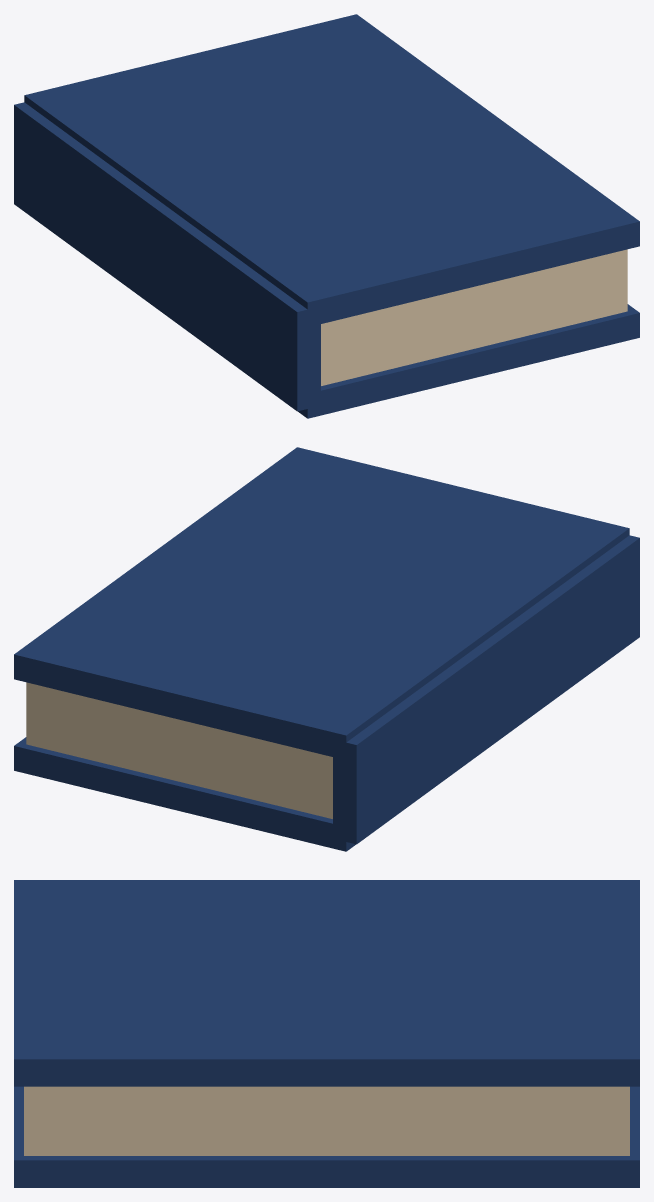
File: spellbook.gltf
3 renders of one model, top to bottom at view 1: azimuth 30°, elevation 25°; view 2: azimuth 150°, elevation 25°; view 3: azimuth 270°, elevation 25°, orthographic. The views are drawn at different scales.
Parts seen in each view (by area): view 1: CSGBox3D2; view 2: CSGBox3D2; view 3: CSGBox3D2.
Part boxes in pixels (x1,y1,x2,y2): CSGBox3D2: (14, 14, 639, 418); CSGBox3D2: (14, 447, 639, 851); CSGBox3D2: (14, 880, 639, 1187).
Bounding box in the file's own units: 0.4332 × 0.1404 × 0.62.
